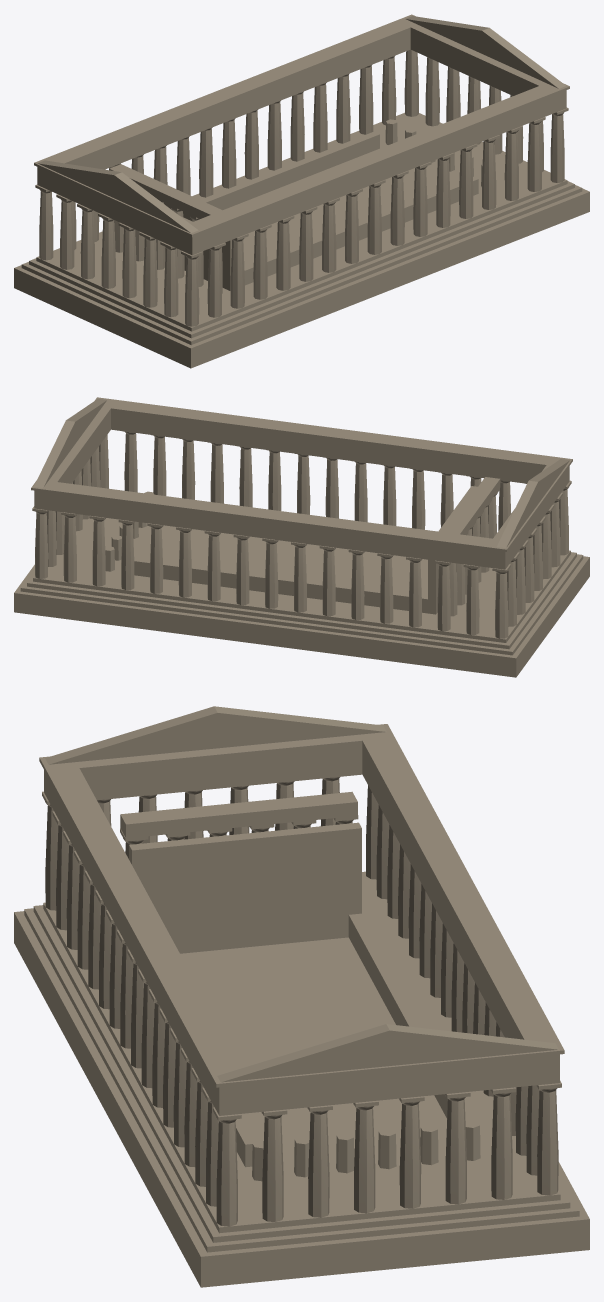
File: parthenon-r3-lod1.glb
3 renders of one model, top to bottom at view 1: azimuth 30°, elevation 25°; view 2: azimuth 150°, elevation 25°; view 3: azimuth 270°, elevation 25°, orthographic. The views are drawn at different scales.
Parts seen in each view (by area): view 1: Pentelic marble, weathered; view 2: Pentelic marble, weathered; view 3: Pentelic marble, weathered.
Boxes of the visible parts, x1,y1,x2,y2 form: Pentelic marble, weathered: [14, 14, 589, 368]; Pentelic marble, weathered: [14, 397, 589, 677]; Pentelic marble, weathered: [14, 706, 589, 1287].
Size of the model in its own units: 79.8 by 22.19 by 50.79.
